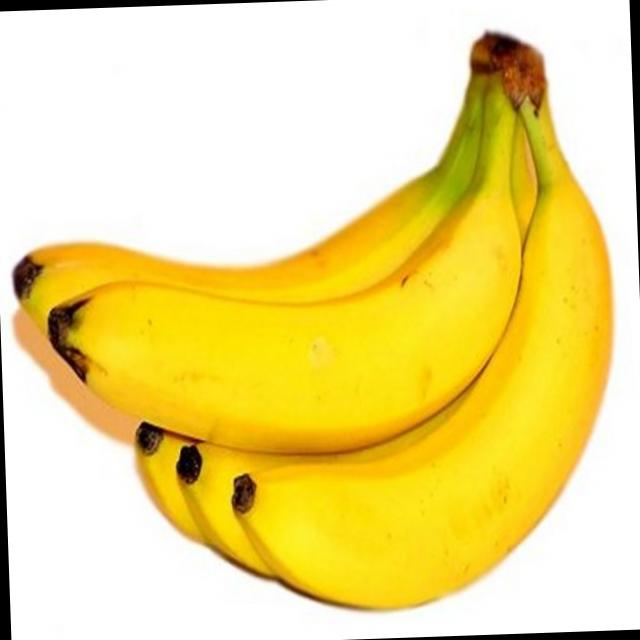banana: (221, 164, 640, 630), (43, 184, 530, 485), (17, 148, 498, 414)
